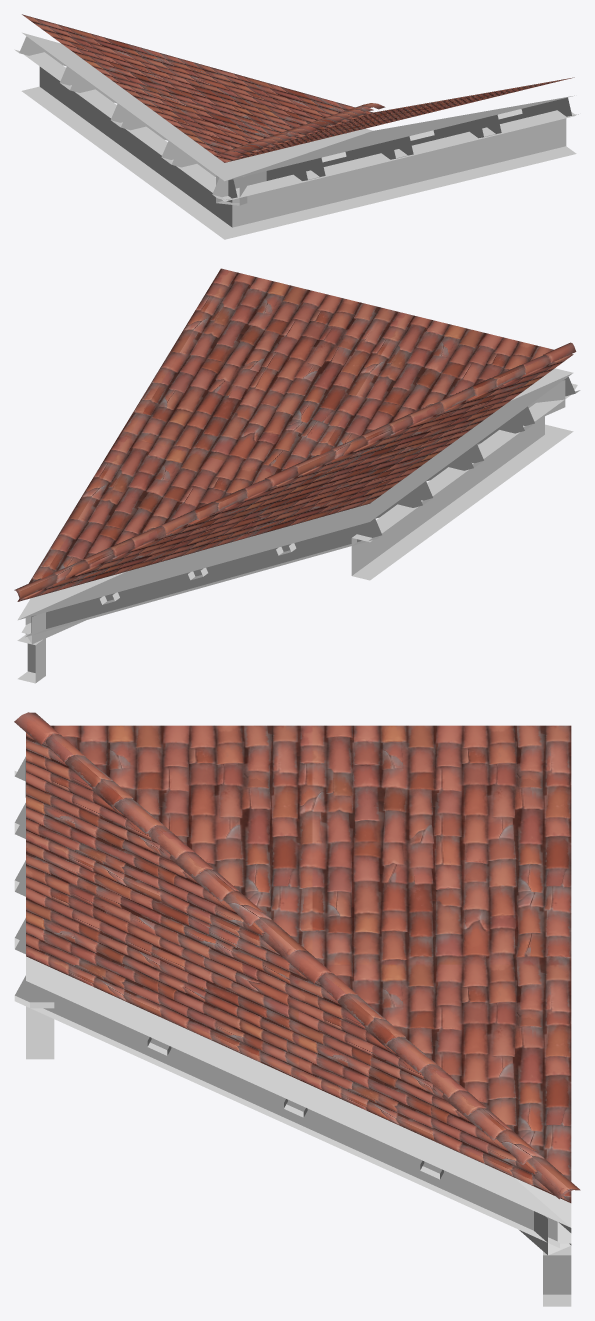
Rendered from WallKit_Valley_LOD1.fbx.
3 renders of one model, top to bottom at view 1: azimuth 30°, elevation 25°; view 2: azimuth 150°, elevation 25°; view 3: azimuth 270°, elevation 25°, orthographic. The views are drawn at different scales.
Visible parts, largest first — view 1: WallKit_Valley_LOD1; view 2: WallKit_Valley_LOD1; view 3: WallKit_Valley_LOD1.
Part boxes in pixels (x1=…): WallKit_Valley_LOD1: x1=14, y1=14, x2=578, y2=239; WallKit_Valley_LOD1: x1=14, y1=268, x2=580, y2=683; WallKit_Valley_LOD1: x1=14, y1=712, x2=580, y2=1306.
Size of the model in its own units: 417 by 294 by 416.
